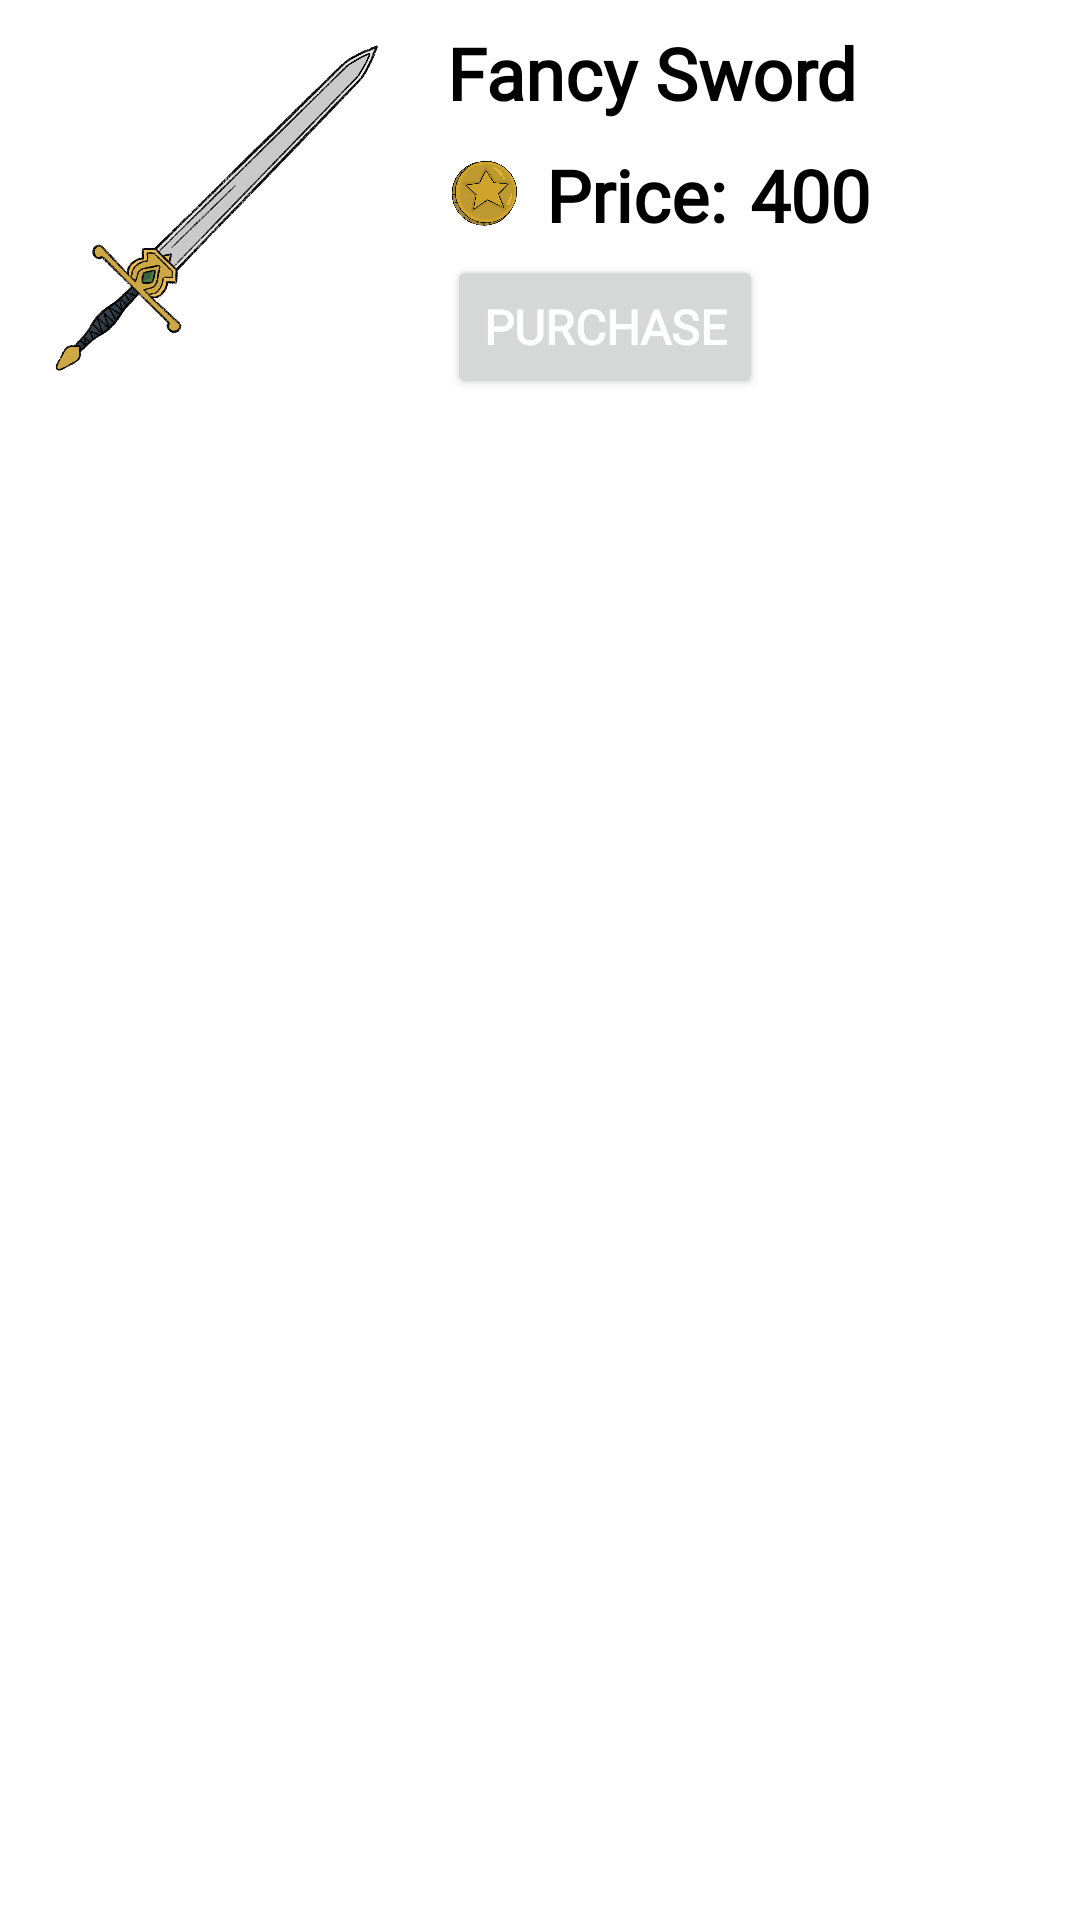

Named icons in this screenshot (1080 x 1920) and their centers, (x,y):
coin: (484,193)
